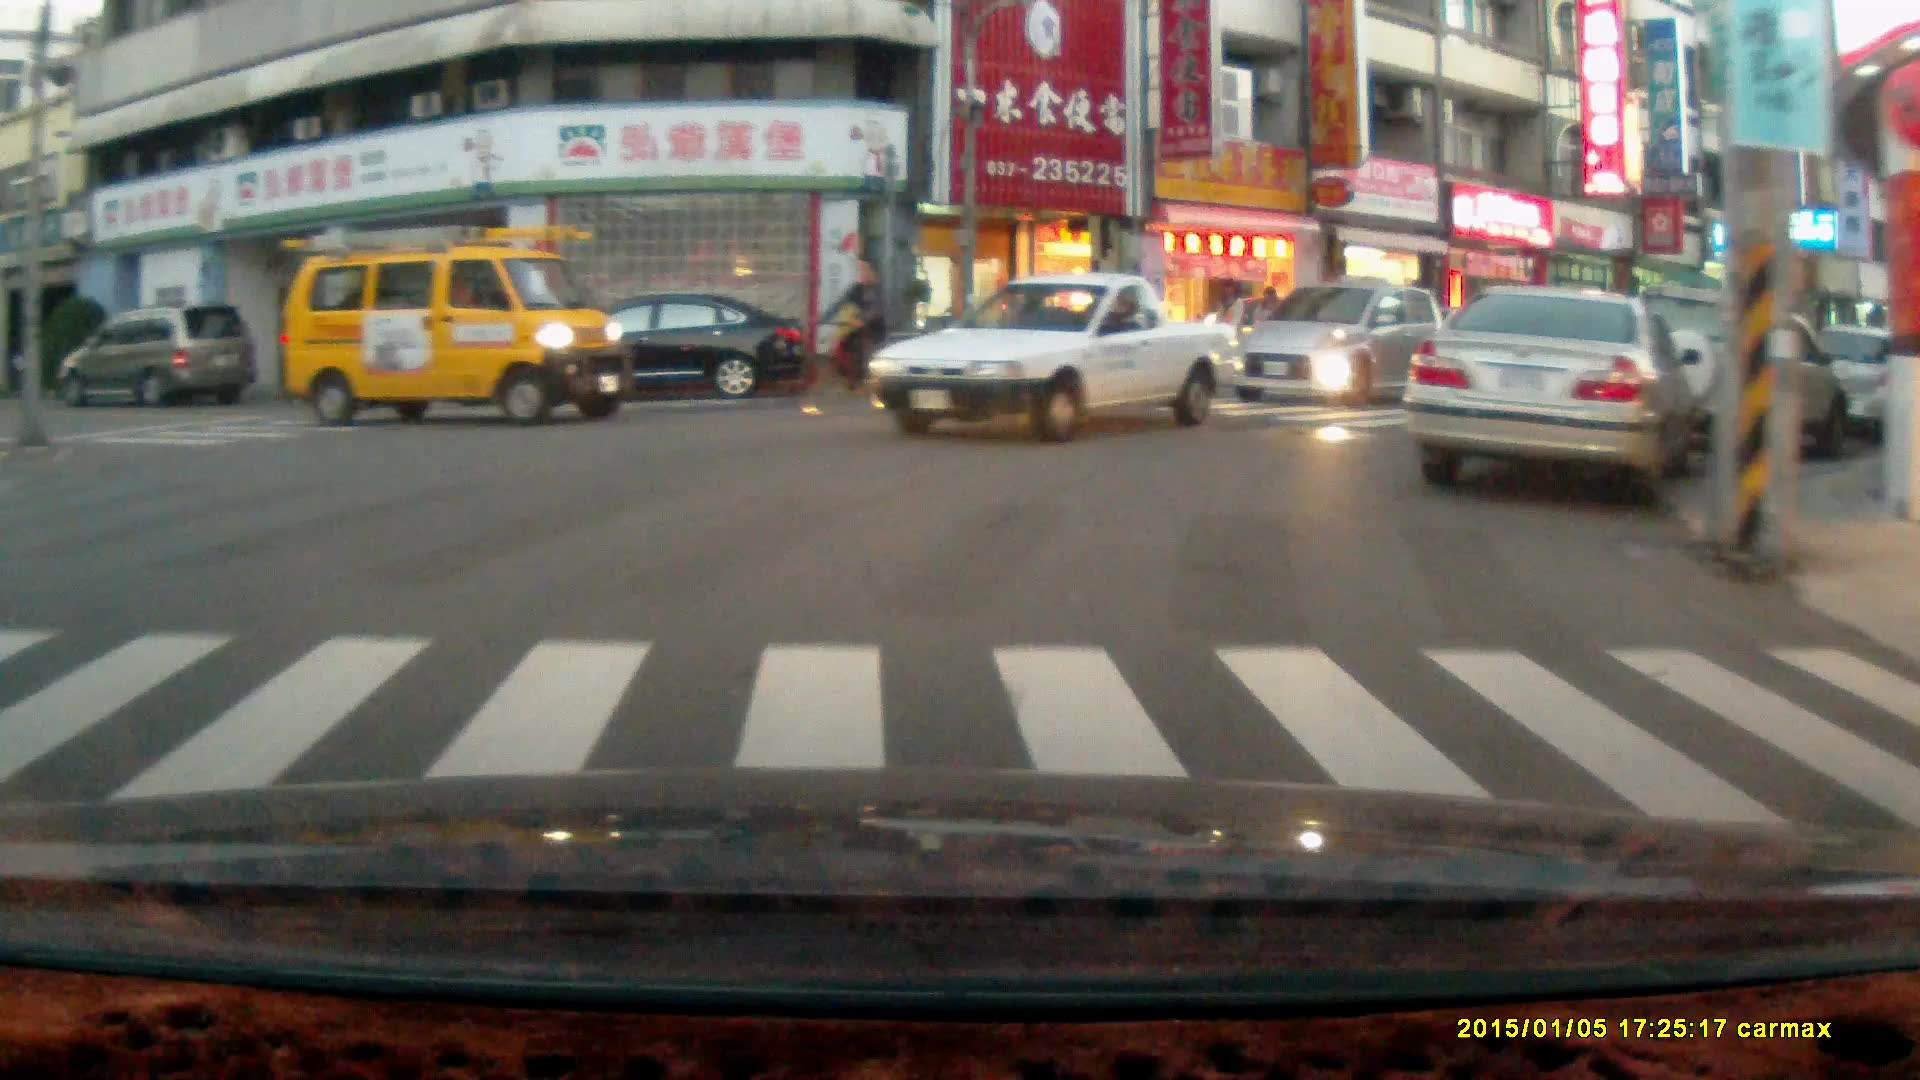pedestrian: (1213, 277, 1246, 371)
rider: (792, 253, 908, 415)
vehicle: (274, 225, 637, 430), (867, 272, 1247, 445), (1408, 281, 1688, 510), (1590, 291, 1857, 472), (523, 289, 808, 407), (1229, 277, 1448, 409), (56, 301, 257, 412)
